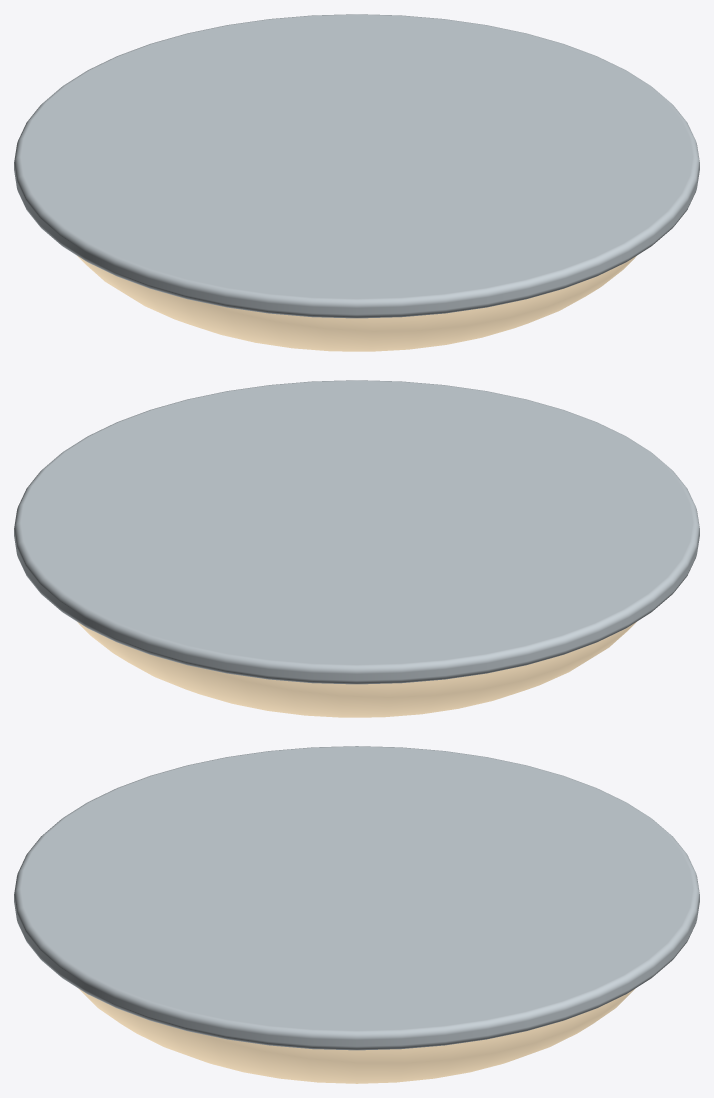
File: SM_CeilingLight.glb
3 renders of one model, top to bottom at view 1: azimuth 30°, elevation 25°; view 2: azimuth 150°, elevation 25°; view 3: azimuth 270°, elevation 25°, orthographic.
Visible parts, largest first — view 1: SM_CeilingLight; view 2: SM_CeilingLight; view 3: SM_CeilingLight.
Boxes of the visible parts, x1,y1,x2,y2 form: SM_CeilingLight: (14, 14, 699, 351); SM_CeilingLight: (14, 380, 699, 717); SM_CeilingLight: (14, 746, 699, 1083).
Size of the model in its own units: 0.392 by 0.085 by 0.392.
2 materials, 2 textured.
